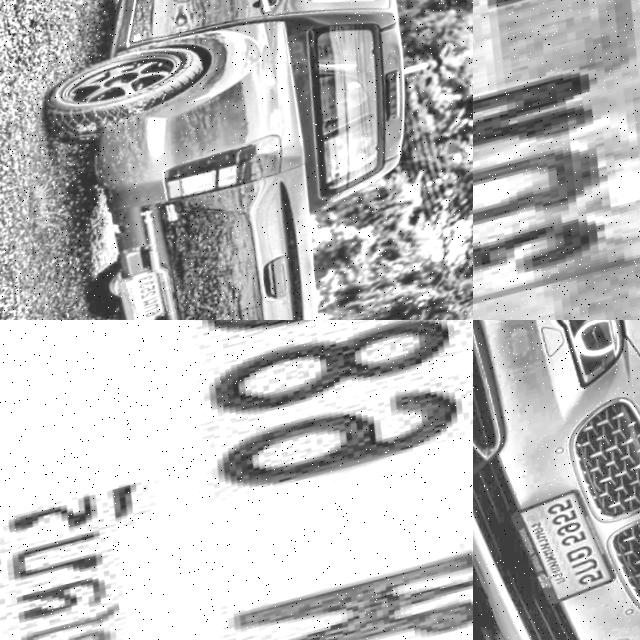license-plate: (0, 320, 473, 640), (473, 0, 640, 320), (501, 480, 638, 620), (115, 265, 187, 320)
